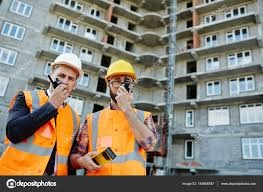white: (47, 51, 82, 99)
yellow: (104, 60, 137, 105)
